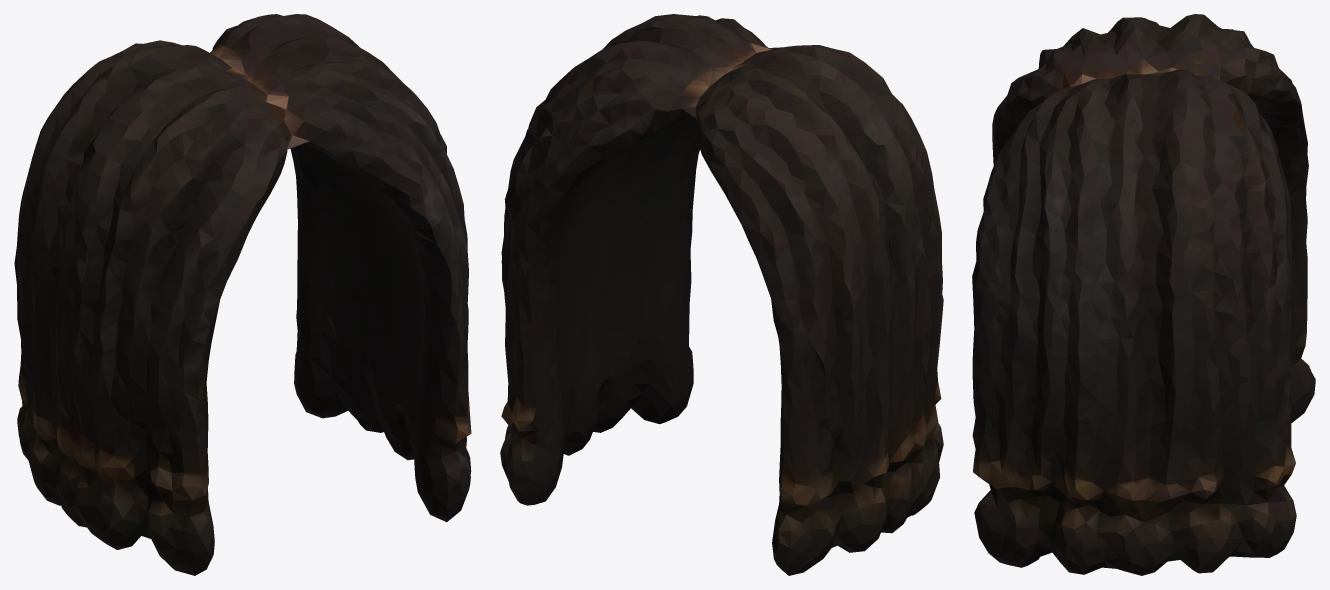
File: hairstyle_044.glb
3 renders of one model, left to right at view 1: azimuth 30°, elevation 25°; view 2: azimuth 150°, elevation 25°; view 3: azimuth 270°, elevation 25°, orthographic. The views are drawn at different scales.
Parts seen in each view (by area): view 1: geometry_0_044; view 2: geometry_0_044; view 3: geometry_0_044.
Boxes of the visible parts, box(x1,y1,x2,y2) form: geometry_0_044: box(14, 14, 471, 575); geometry_0_044: box(500, 14, 943, 575); geometry_0_044: box(972, 14, 1315, 575).
Bounding box in the file's own units: 1.22 × 1.42 × 0.9788.
1 material, 1 textured.
